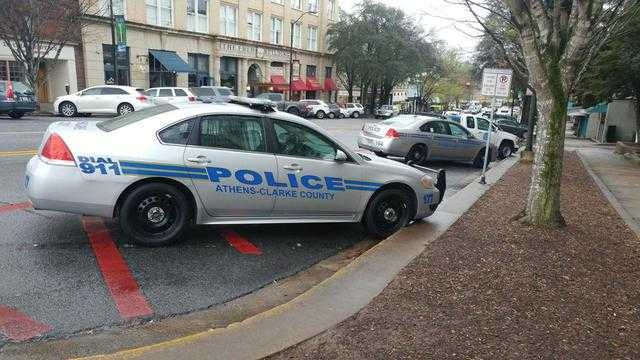Police Car: (33, 80, 444, 276), (359, 98, 502, 170)
